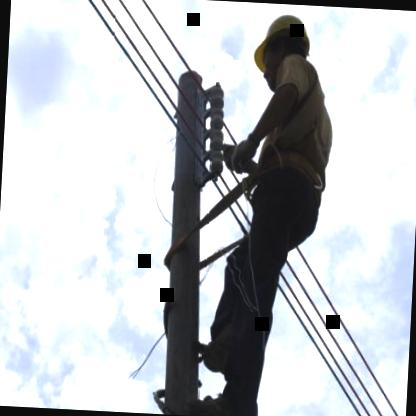helmet: (247, 8, 314, 94)
